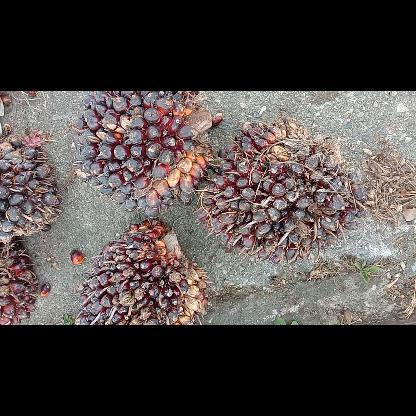TBS mentah: (192, 117, 364, 263), (74, 91, 224, 217), (74, 216, 208, 324), (0, 132, 62, 240)
